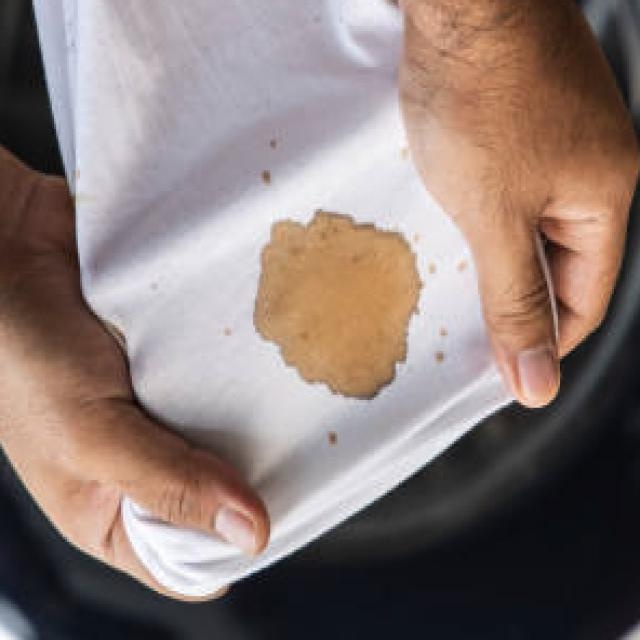coffee: (252, 210, 426, 404)
